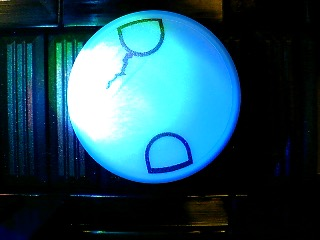CRACK: (67, 10, 241, 182)
